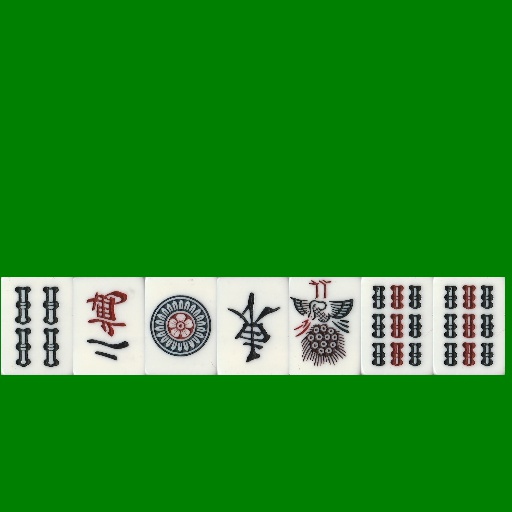1p: (145, 277, 217, 375)
1s: (289, 277, 361, 375)
2m: (73, 277, 145, 375)
4s: (1, 277, 73, 375)
9s: (361, 277, 433, 375), (433, 277, 505, 375)
east: (217, 277, 289, 375)
